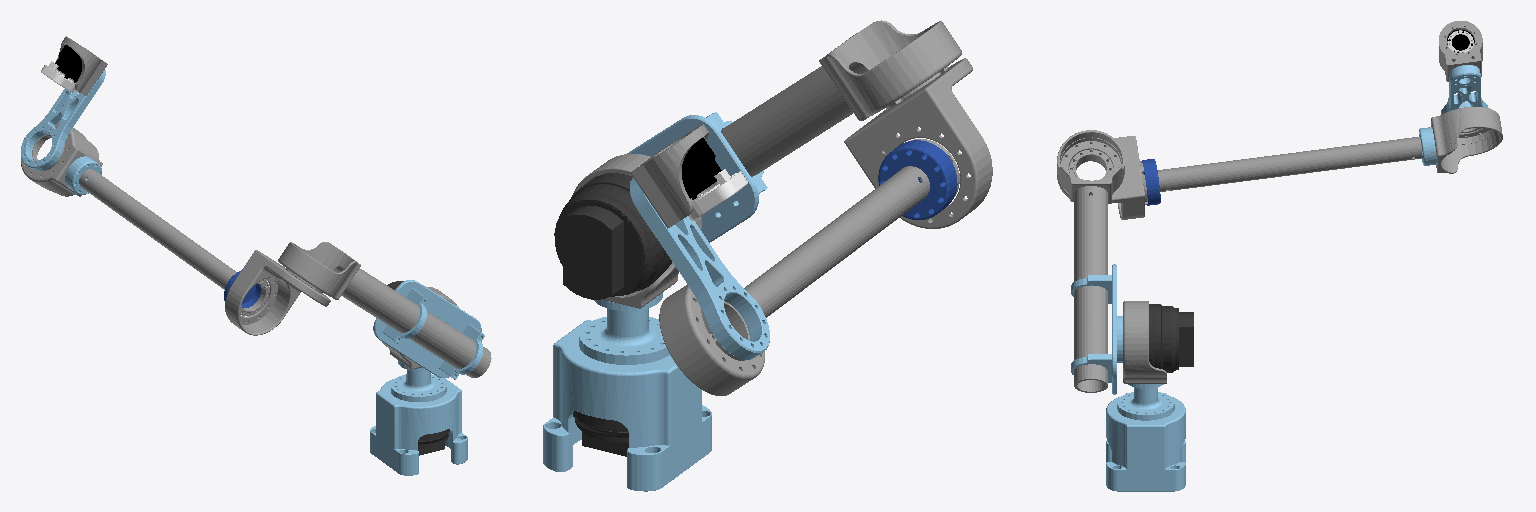
URDF robot description (urt_arm_collapsed):
<?xml version='1.0' encoding='utf-8'?>
<robot name="urt_arm_collapsed">
  <link name="root" />
  <link name="link4">
    <inertial>
      <mass value="0.673956728" />
      <origin xyz="0 0 0" rpy="0 0 0" />
      <inertia ixx="6.73956729e-05" ixy="0" ixz="0" iyy="6.73956729e-05" iyz="0" izz="6.73956729e-05" />
    </inertial>
    <visual>
      <origin xyz="-1.77092533e-13 0.00380104817 0.370000071" rpy="1.57079469 -4.68080571e-16 2.37764689e-16" />
      <geometry>
        <mesh filename="../meshes_onshape_rigid_stl/_0_FSA36_14__8300_1.stl" scale="1 1 1" />
      </geometry>
      <material name="0.203922_0.203922_0.203922_0.000000_0.000000">
        <color rgba="0.203922 0.203922 0.203922 1" />
      </material>
    </visual>
    <visual>
      <origin xyz="-1.75516381e-13 0.00380104817 0.370000071" rpy="1.57079469 -1.08834247e-15 -1.51781951e-17" />
      <geometry>
        <mesh filename="../meshes_onshape_rigid_stl/FSA36_14_Rotor.stl" scale="1 1 1" />
      </geometry>
      <material name="0.666667_0.666667_0.666667_0.000000_0.000000">
        <color rgba="0.666667 0.666667 0.666667 1" />
      </material>
    </visual>
    <visual>
      <origin xyz="-3.37662193e-16 8.35880785e-07 0.33" rpy="-5.30717959e-06 -7.7127432e-16 2.80780411e-16" />
      <geometry>
        <mesh filename="../meshes_onshape_rigid_stl/FSA36_Bracket.stl" scale="1 1 1" />
      </geometry>
      <material name="0.658824_0.658824_0.658824_0.000000_0.000000">
        <color rgba="0.658824 0.658824 0.658824 1" />
      </material>
    </visual>
    <visual>
      <origin xyz="-9.12098809e-18 -3.29994833e-17 -3.46944695e-18" rpy="8.32667268e-17 -1.46943276e-17 1.15960716e-16" />
      <geometry>
        <mesh filename="../meshes_onshape_rigid_stl/Part_1.stl" scale="1 1 1" />
      </geometry>
      <material name="0.231373_0.380392_0.705882_0.000000_0.000000">
        <color rgba="0.231373 0.380392 0.705882 1" />
      </material>
    </visual>
    <visual>
      <origin xyz="-1.75544947e-16 7.96076938e-07 0.315" rpy="3.14159 -4.71434822e-16 -1.02701898e-16" />
      <geometry>
        <mesh filename="../meshes_onshape_rigid_stl/Part_1_1.stl" scale="1 1 1" />
      </geometry>
      <material name="0.647059_0.647059_0.647059_0.000000_0.000000">
        <color rgba="0.647059 0.647059 0.647059 1" />
      </material>
    </visual>
    <visual>
      <origin xyz="-2.99583492e-16 8.35880785e-07 0.33" rpy="3.14159 -7.10975739e-16 2.72225378e-16" />
      <geometry>
        <mesh filename="../meshes_onshape_rigid_stl/Part_1_2.stl" scale="1 1 1" />
      </geometry>
      <material name="0.615686_0.811765_0.929412_0.000000_0.000000">
        <color rgba="0.615686 0.811765 0.929412 1" />
      </material>
    </visual>
  </link>
  <link name="link2">
    <inertial>
      <mass value="1.07297765" />
      <origin xyz="0 0 0" rpy="0 0 0" />
      <inertia ixx="0.000107297765" ixy="0" ixz="0" iyy="0.000107297765" iyz="0" izz="0.000107297765" />
    </inertial>
    <visual>
      <origin xyz="0.145830223 0.0410006661 -0.167491301" rpy="-3.14158968 -0.87266602 -3.14158694" />
      <geometry>
        <mesh filename="../meshes_onshape_rigid_stl/_0_FSA36_14__8300_1.stl" scale="1 1 1" />
      </geometry>
      <material name="0.203922_0.203922_0.203922_0.000000_0.000000">
        <color rgba="0.203922 0.203922 0.203922 1" />
      </material>
    </visual>
    <visual>
      <origin xyz="0.145830223 0.0410006661 -0.167491301" rpy="-3.14159246 0.87266602 9.84273507e-06" />
      <geometry>
        <mesh filename="../meshes_onshape_rigid_stl/FSA36_14_Rotor.stl" scale="1 1 1" />
      </geometry>
      <material name="0.666667_0.666667_0.666667_0.000000_0.000000">
        <color rgba="0.666667 0.666667 0.666667 1" />
      </material>
    </visual>
    <visual>
      <origin xyz="0.117207627 0.0410004141 -0.139292112" rpy="2.44345867 -4.52749547e-07 1.5708015" />
      <geometry>
        <mesh filename="../meshes_onshape_rigid_stl/FSA36_Bracket_1.stl" scale="1 1 1" />
      </geometry>
      <material name="0.658824_0.658824_0.658824_0.000000_0.000000">
        <color rgba="0.658824 0.658824 0.658824 1" />
      </material>
    </visual>
    <visual>
      <origin xyz="0.00308641571 0.0169999747 -0.00268855385" rpy="-1.5708 0.872665 1.12268077e-15" />
      <geometry>
        <mesh filename="../meshes_onshape_rigid_stl/Part_1_3.stl" scale="1 1 1" />
      </geometry>
      <material name="0.615686_0.811765_0.929412_0.000000_0.000000">
        <color rgba="0.615686 0.811765 0.929412 1" />
      </material>
    </visual>
    <visual>
      <origin xyz="-0.0255140956 0.0409999732 0.030750465" rpy="1.57079941 0.698132346 -3.14158786" />
      <geometry>
        <mesh filename="../meshes_onshape_rigid_stl/Part_1_4.stl" scale="1 1 1" />
      </geometry>
      <material name="0.615686_0.811765_0.929412_0.000000_0.000000">
        <color rgba="0.615686 0.811765 0.929412 1" />
      </material>
    </visual>
    <visual>
      <origin xyz="0.117207627 0.0410004141 -0.139292112" rpy="-0.698131327 -4.52749547e-07 1.5708015" />
      <geometry>
        <mesh filename="../meshes_onshape_rigid_stl/Part_1_5.stl" scale="1 1 1" />
      </geometry>
      <material name="0.647059_0.647059_0.647059_0.000000_0.000000">
        <color rgba="0.647059 0.647059 0.647059 1" />
      </material>
    </visual>
    <visual>
      <origin xyz="0.0375020105 0.0409999733 -0.0443025619" rpy="1.57079941 0.698127654 -3.14158786" />
      <geometry>
        <mesh filename="../meshes_onshape_rigid_stl/Part_1_4.stl" scale="1 1 1" />
      </geometry>
      <material name="0.615686_0.811765_0.929412_0.000000_0.000000">
        <color rgba="0.615686 0.811765 0.929412 1" />
      </material>
    </visual>
    <visual>
      <origin xyz="-0.0226365041 0.0169999746 0.0279435157" rpy="-1.57079941 -0.698135 4.79504199e-06" />
      <geometry>
        <mesh filename="../meshes_onshape_rigid_stl/Part_1_6.stl" scale="1 1 1" />
      </geometry>
      <material name="0.615686_0.811765_0.929412_0.000000_0.000000">
        <color rgba="0.615686 0.811765 0.929412 1" />
      </material>
    </visual>
    <visual>
      <origin xyz="-1.0134005e-17 0.012 -1.13276062e-18" rpy="-2.67605853e-23 3.8740487e-22 -9.1539167e-23" />
      <geometry>
        <mesh filename="../meshes_onshape_rigid_stl/Part_1_7.stl" scale="1 1 1" />
      </geometry>
      <material name="0.615686_0.811765_0.929412_0.000000_0.000000">
        <color rgba="0.615686 0.811765 0.929412 1" />
      </material>
    </visual>
    <visual>
      <origin xyz="0.0403796349 0.0169999748 -0.0471095797" rpy="1.57079941 0.698127654 -3.14158786" />
      <geometry>
        <mesh filename="../meshes_onshape_rigid_stl/Part_1_6.stl" scale="1 1 1" />
      </geometry>
      <material name="0.615686_0.811765_0.929412_0.000000_0.000000">
        <color rgba="0.615686 0.811765 0.929412 1" />
      </material>
    </visual>
  </link>
  <link name="link3">
    <inertial>
      <mass value="0.8236641" />
      <origin xyz="0 0 0" rpy="0 0 0" />
      <inertia ixx="8.236641e-05" ixy="0" ixz="0" iyy="8.236641e-05" iyz="0" izz="8.236641e-05" />
    </inertial>
    <visual>
      <origin xyz="0.0485000911 -0.0287 9.10954868e-08" rpy="-3.14159265 1.57079265 1.57079265" />
      <geometry>
        <mesh filename="../meshes_onshape_rigid_stl/_0_FSA36_14__8300_1.stl" scale="1 1 1" />
      </geometry>
      <material name="0.203922_0.203922_0.203922_0.000000_0.000000">
        <color rgba="0.203922 0.203922 0.203922 1" />
      </material>
    </visual>
    <visual>
      <origin xyz="0.0485000911 -0.0287 9.1095485e-08" rpy="3.14159265 1.57079265 1.57079265" />
      <geometry>
        <mesh filename="../meshes_onshape_rigid_stl/FSA36_14_Rotor.stl" scale="1 1 1" />
      </geometry>
      <material name="0.666667_0.666667_0.666667_0.000000_0.000000">
        <color rgba="0.666667 0.666667 0.666667 1" />
      </material>
    </visual>
    <visual>
      <origin xyz="0.0485 -0.0295 7.37592997e-18" rpy="6.24500451e-17 4.06837336e-17 7.17436906e-18" />
      <geometry>
        <mesh filename="../meshes_onshape_rigid_stl/Part_1_8.stl" scale="1 1 1" />
      </geometry>
      <material name="0.658824_0.658824_0.658824_0.000000_0.000000">
        <color rgba="0.658824 0.658824 0.658824 1" />
      </material>
    </visual>
  </link>
  <link name="base_link">
    <inertial>
      <mass value="1.2921161" />
      <origin xyz="0 0 0" rpy="0 0 0" />
      <inertia ixx="0.00012921161" ixy="0" ixz="0" iyy="0.00012921161" iyz="0" izz="0.00012921161" />
    </inertial>
    <visual>
      <origin xyz="-1.09325918e-14 8.94385516e-12 0.0438" rpy="0 -0 1.5708" />
      <geometry>
        <mesh filename="../meshes_onshape_rigid_stl/_0_FSA60_17_____1.stl" scale="1 1 1" />
      </geometry>
      <material name="0.274510_0.274510_0.274510_0.000000_0.000000">
        <color rgba="0.27451 0.27451 0.27451 1" />
      </material>
    </visual>
    <visual>
      <origin xyz="-4.37430181e-11 6.47922945e-11 0" rpy="0 -0 1.5708" />
      <geometry>
        <mesh filename="../meshes_onshape_rigid_stl/FSA60_17_Base.stl" scale="1 1 1" />
      </geometry>
      <material name="0.615686_0.811765_0.929412_0.000000_0.000000">
        <color rgba="0.615686 0.811765 0.929412 1" />
      </material>
    </visual>
    <visual>
      <origin xyz="-1.47668613e-14 8.94373512e-12 0.0438" rpy="0 -0 1.5708" />
      <geometry>
        <mesh filename="../meshes_onshape_rigid_stl/Rotor.stl" scale="1 1 1" />
      </geometry>
      <material name="0.917647_0.917647_0.917647_0.000000_0.000000">
        <color rgba="0.917647 0.917647 0.917647 1" />
      </material>
    </visual>
  </link>
  <link name="link1">
    <inertial>
      <mass value="1.1616267" />
      <origin xyz="0 0 0" rpy="0 0 0" />
      <inertia ixx="0.00011616267" ixy="0" ixz="0" iyy="0.00011616267" iyz="0" izz="0.00011616267" />
    </inertial>
    <visual>
      <origin xyz="-0.0197 -7.23625023e-08 0.0840001495" rpy="1.5708 -5.63764877e-22 1.5708" />
      <geometry>
        <mesh filename="../meshes_onshape_rigid_stl/_0_FSA60_17_____1.stl" scale="1 1 1" />
      </geometry>
      <material name="0.274510_0.274510_0.274510_0.000000_0.000000">
        <color rgba="0.27451 0.27451 0.27451 1" />
      </material>
    </visual>
    <visual>
      <origin xyz="7.97972042e-17 2.21946677e-17 0.039" rpy="-8.15367e-21 -9.10099e-23 1.5708" />
      <geometry>
        <mesh filename="../meshes_onshape_rigid_stl/FSA60_17_Mount.stl" scale="1 1 1" />
      </geometry>
      <material name="0.647059_0.647059_0.647059_0.000000_0.000000">
        <color rgba="0.647059 0.647059 0.647059 1" />
      </material>
    </visual>
    <visual>
      <origin xyz="-4.6169318e-28 1.37773e-18 2.8749407e-33" rpy="-1.22815627e-38 -2.45166695e-39 -3.09060472e-44" />
      <geometry>
        <mesh filename="../meshes_onshape_rigid_stl/FSA60_17_Rotor__Mount.stl" scale="1 1 1" />
      </geometry>
      <material name="0.615686_0.811765_0.929412_0.000000_0.000000">
        <color rgba="0.615686 0.811765 0.929412 1" />
      </material>
    </visual>
    <visual>
      <origin xyz="-0.0197 -7.23625024e-08 0.0840001495" rpy="1.5708 -1.559583e-22 1.5708" />
      <geometry>
        <mesh filename="../meshes_onshape_rigid_stl/Rotor.stl" scale="1 1 1" />
      </geometry>
      <material name="0.917647_0.917647_0.917647_0.000000_0.000000">
        <color rgba="0.917647 0.917647 0.917647 1" />
      </material>
    </visual>
  </link>
  <link name="link5">
    <inertial>
      <mass value="0.24837018" />
      <origin xyz="0 0 0" rpy="0 0 0" />
      <inertia ixx="2.4837018e-05" ixy="0" ixz="0" iyy="2.4837018e-05" iyz="0" izz="2.4837018e-05" />
    </inertial>
    <visual>
      <origin xyz="-0.119500029 0.0404999674 -1.04686345e-07" rpy="-3.14159265 -1.57079265 1.57079735" />
      <geometry>
        <mesh filename="../meshes_onshape_rigid_stl/FSA25_Mount.stl" scale="1 1 1" />
      </geometry>
      <material name="0.647059_0.647059_0.647059_0.000000_0.000000">
        <color rgba="0.647059 0.647059 0.647059 1" />
      </material>
    </visual>
    <visual>
      <origin xyz="-0.0813501031 0.0496056875 0.0176498028" rpy="0.04365 3.67097808e-06 -3.14159164" />
      <geometry>
        <mesh filename="../meshes_onshape_rigid_stl/GBT_819_1_2016__4_0001_1.stl" scale="1 1 1" />
      </geometry>
      <material name="0.000000_0.000000_0.000000_0.000000_0.000000">
        <color rgba="0 0 0 1" />
      </material>
    </visual>
    <visual>
      <origin xyz="-0.1 0.012 1.19851391e-17" rpy="0 1.60741442e-17 4.63651012e-17" />
      <geometry>
        <mesh filename="../meshes_onshape_rigid_stl/L5.stl" scale="1 1 1" />
      </geometry>
      <material name="0.615686_0.811765_0.929412_0.000000_0.000000">
        <color rgba="0.615686 0.811765 0.929412 1" />
      </material>
    </visual>
    <visual>
      <origin xyz="-0.0779001031 0.0496056489 0.0176497673" rpy="0.04365 3.67097808e-06 -3.14159164" />
      <geometry>
        <mesh filename="../meshes_onshape_rigid_stl/M2H8_6_1.stl" scale="1 1 1" />
      </geometry>
      <material name="0.960784_0.960784_0.960784_0.000000_0.000000">
        <color rgba="0.960784 0.960784 0.960784 1" />
      </material>
    </visual>
    <visual>
      <origin xyz="-0.081349955 0.0313226036 -0.0176163075" rpy="-3.09794531 3.6732051e-06 -3.14159163" />
      <geometry>
        <mesh filename="../meshes_onshape_rigid_stl/Rotor_1.stl" scale="1 1 1" />
      </geometry>
      <material name="0.847059_0.847059_0.847059_0.000000_0.000000">
        <color rgba="0.847059 0.847059 0.847059 1" />
      </material>
    </visual>
  </link>
  <joint name="root_to_base" type="fixed">
    <parent link="root" />
    <child link="base_link" />
    <origin xyz="0 0 0" rpy="0 0 0" />
  </joint>
  <joint name="revolute_1" type="continuous">
    <origin xyz="-1.47654813e-14 8.94373478e-12 0.0845" rpy="-9.60991e-23 -3.21606e-22 -1.57079531" />
    <axis xyz="0 1.17549435e-38 -1" />
    <parent link="base_link" />
    <child link="link1" />
  </joint>
  <joint name="revolute_2" type="continuous">
    <origin xyz="0.021 7.71369453e-08 0.084" rpy="-0.78539449 -1.57079113 -0.78539449" />
    <axis xyz="0 -1 2.67605853e-23" />
    <parent link="link1" />
    <child link="link2" />
  </joint>
  <joint name="revolute_3" type="continuous">
    <origin xyz="0.121010354 0.041000428 -0.188317585" rpy="3.0006694 0.698133944 -3.14158374" />
    <axis xyz="-1 -2.77555756e-17 -2.77555756e-16" />
    <parent link="link2" />
    <child link="link3" />
  </joint>
  <joint name="revolute_4" type="continuous">
    <origin xyz="0.0484999721 -0.0611 -2.79163606e-08" rpy="-1.5708 -3.6732051e-06 3.14158898" />
    <axis xyz="-1.38777878e-17 -8.32667268e-17 -1" />
    <parent link="link3" />
    <child link="link4" />
  </joint>
  <joint name="revolute_5" type="continuous">
    <origin xyz="-1.75582236e-13 -0.0285989518 0.370000124" rpy="5.30717959e-06 2.65358979e-06 -3.14159265" />
    <axis xyz="-5.55111512e-17 -1 0" />
    <parent link="link4" />
    <child link="link5" />
  </joint>
</robot>

--- Render facts (derived) ---
3 views of the same robot in one strip: view 1: azimuth 30°, elevation 25°; view 2: azimuth 150°, elevation 25°; view 3: azimuth 270°, elevation 25° (orthographic).
Model urt_arm_collapsed with 7 links and 6 joints (5 continuous, 1 fixed), rooted at root, posed all joints at 0.
Links seen in each view (by area): view 1: link2, link4, base_link, link5, link3, link1; view 2: link2, base_link, link4, link1, link5, link3; view 3: link2, link4, link1, base_link, link5, link3.
Boxes of the visible links, x1,y1,x2,y2 form: link2: [278, 242, 491, 379]; link4: [21, 121, 261, 307]; base_link: [370, 378, 467, 475]; link5: [21, 36, 107, 170]; link3: [225, 250, 330, 335]; link1: [382, 281, 458, 401]; link2: [627, 20, 961, 242]; base_link: [543, 320, 711, 491]; link4: [659, 140, 957, 395]; link1: [554, 154, 701, 364]; link5: [630, 124, 769, 359]; link3: [844, 58, 992, 228]; link2: [1057, 130, 1124, 394]; link4: [1142, 107, 1502, 205]; link1: [1117, 301, 1193, 420]; base_link: [1106, 393, 1185, 491]; link5: [1439, 21, 1487, 114]; link3: [1057, 136, 1147, 219].
Bounding box of the posed robot: 0.3759 × 0.5035 × 0.4451 m (x, y, z).
Meshes: 23 distinct files referenced, 28 mesh visuals loaded (22 binary STL); not drawn: 3 (reference not matched to a file when rendering).
